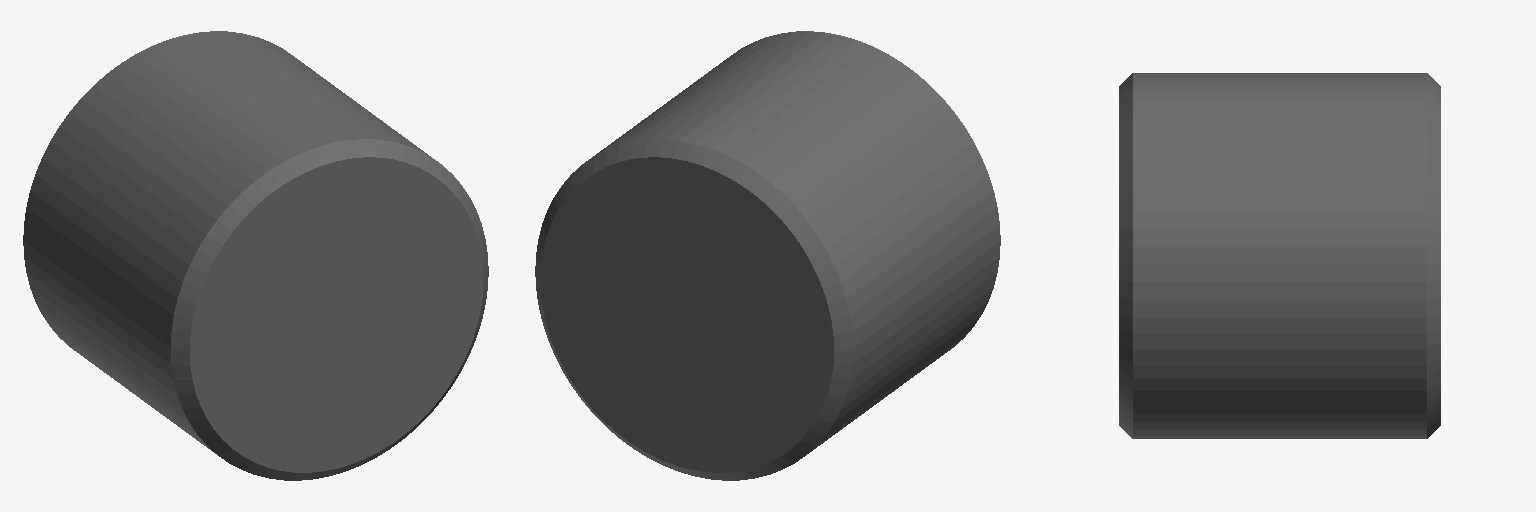
File: weight.obj
The picture shows the model from 3 angles: view 1: azimuth 30°, elevation 25°; view 2: azimuth 150°, elevation 25°; view 3: azimuth 270°, elevation 25°; orthographic projection.
Parts seen in each view (by area): view 1: Weight_Cylinder.003; view 2: Weight_Cylinder.003; view 3: Weight_Cylinder.003.
Boxes of the visible parts, x1,y1,x2,y2 form: Weight_Cylinder.003: [23, 31, 488, 480]; Weight_Cylinder.003: [535, 31, 1000, 480]; Weight_Cylinder.003: [1119, 73, 1440, 438].
Size of the model in its own units: 0.3344 by 0.3344 by 0.294.